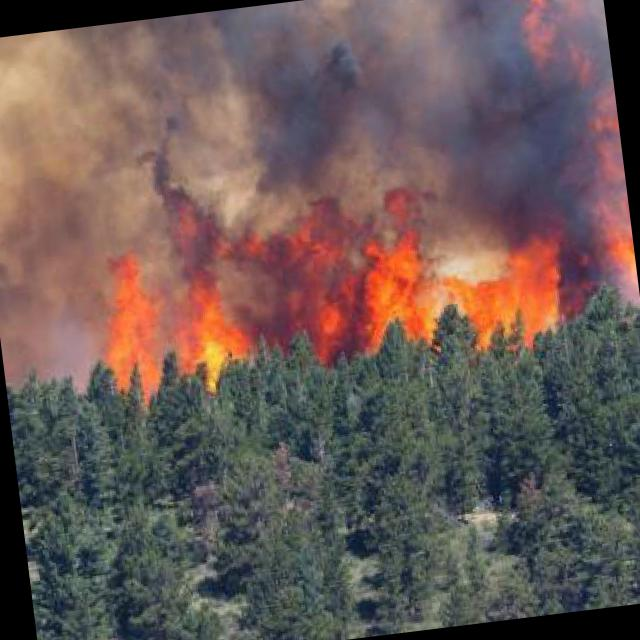Fire: (445, 208, 569, 342), (210, 221, 336, 352), (346, 194, 430, 355), (90, 256, 166, 383), (176, 256, 244, 382), (306, 235, 368, 368), (556, 200, 616, 304), (610, 220, 636, 288)
